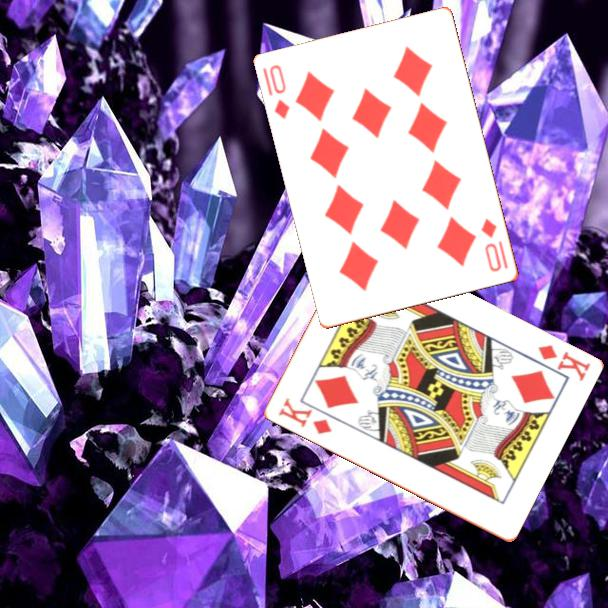d10: (259, 61, 293, 123), (478, 215, 505, 275)
d13: (275, 394, 334, 437), (534, 341, 593, 384)
